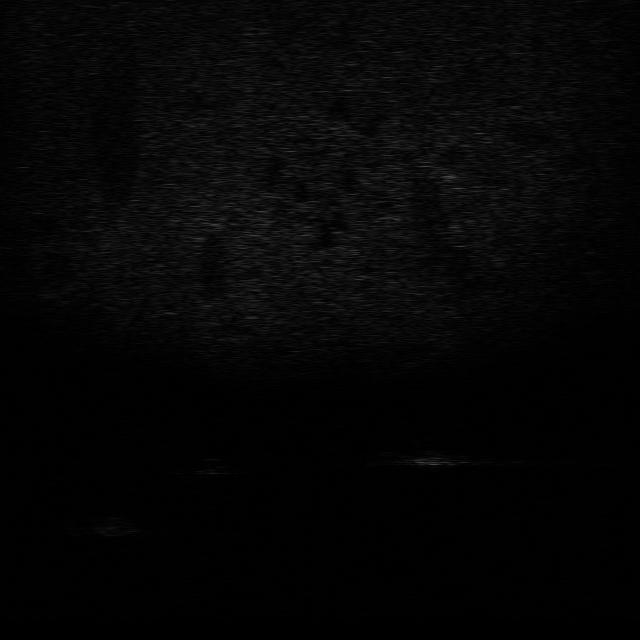ball: (186, 452, 238, 479)
circle cage: (66, 510, 142, 538)
human body: (365, 441, 495, 474)
